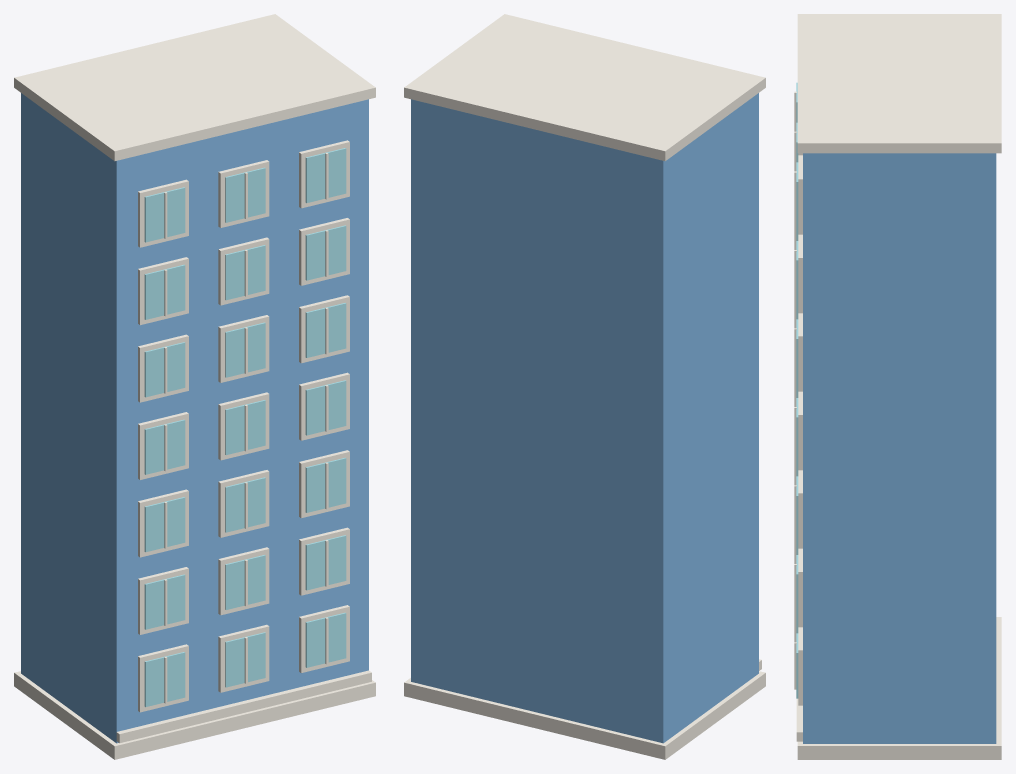
File: 10_skyline_a.glb
The picture shows the model from 3 angles, left to right: view 1: azimuth 30°, elevation 25°; view 2: azimuth 150°, elevation 25°; view 3: azimuth 270°, elevation 25°; orthographic projection.
Visible parts, largest first — view 1: 10_skyline_a; view 2: 10_skyline_a; view 3: 10_skyline_a.
Part boxes in pixels (box(x1,y1,x2,y2)): 10_skyline_a: box(14, 14, 375, 759); 10_skyline_a: box(404, 14, 765, 759); 10_skyline_a: box(794, 14, 1001, 759).
Size of the model in its own units: 6 by 13.36 by 4.07.
